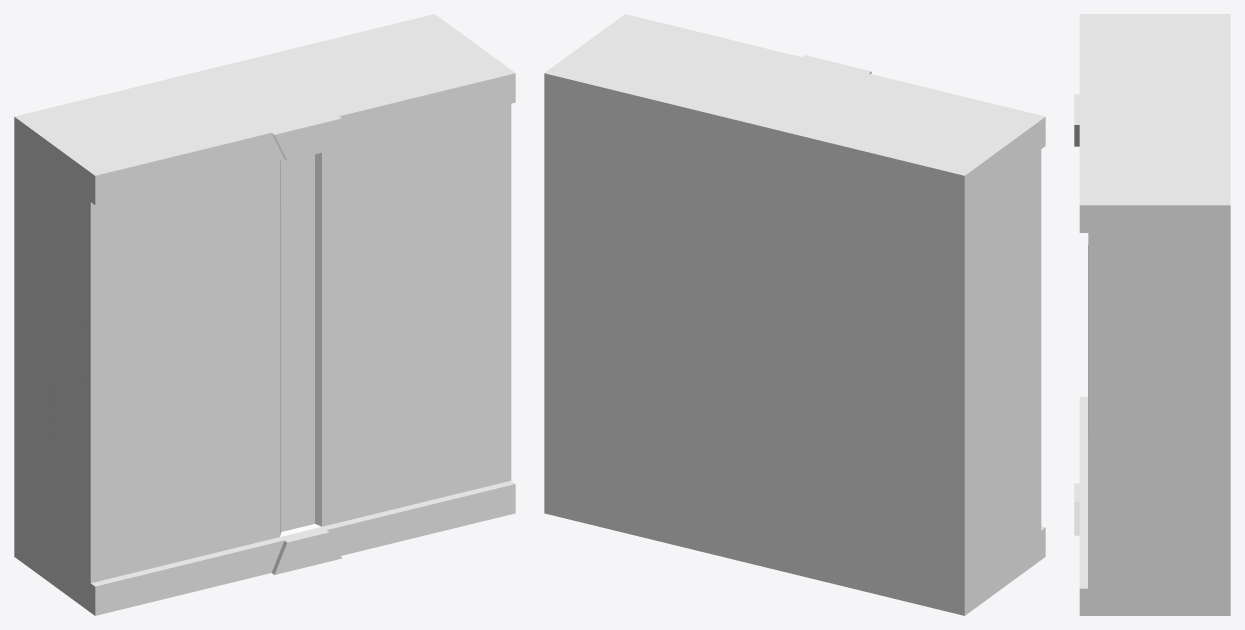
File: Wall_Light.glb
The picture shows the model from 3 angles, left to right: view 1: azimuth 30°, elevation 25°; view 2: azimuth 150°, elevation 25°; view 3: azimuth 270°, elevation 25°; orthographic projection. The views are drawn at different scales.
Parts seen in each view (by area): view 1: Wall_Light; view 2: Wall_Light; view 3: Wall_Light.
Part boxes in pixels (left/top/right/bottom): Wall_Light: left=14, top=14, right=515, bottom=615; Wall_Light: left=544, top=14, right=1045, bottom=615; Wall_Light: left=1074, top=14, right=1230, bottom=615.
Size of the model in its own units: 3 by 3 by 1.04.
1 material, 1 textured.
